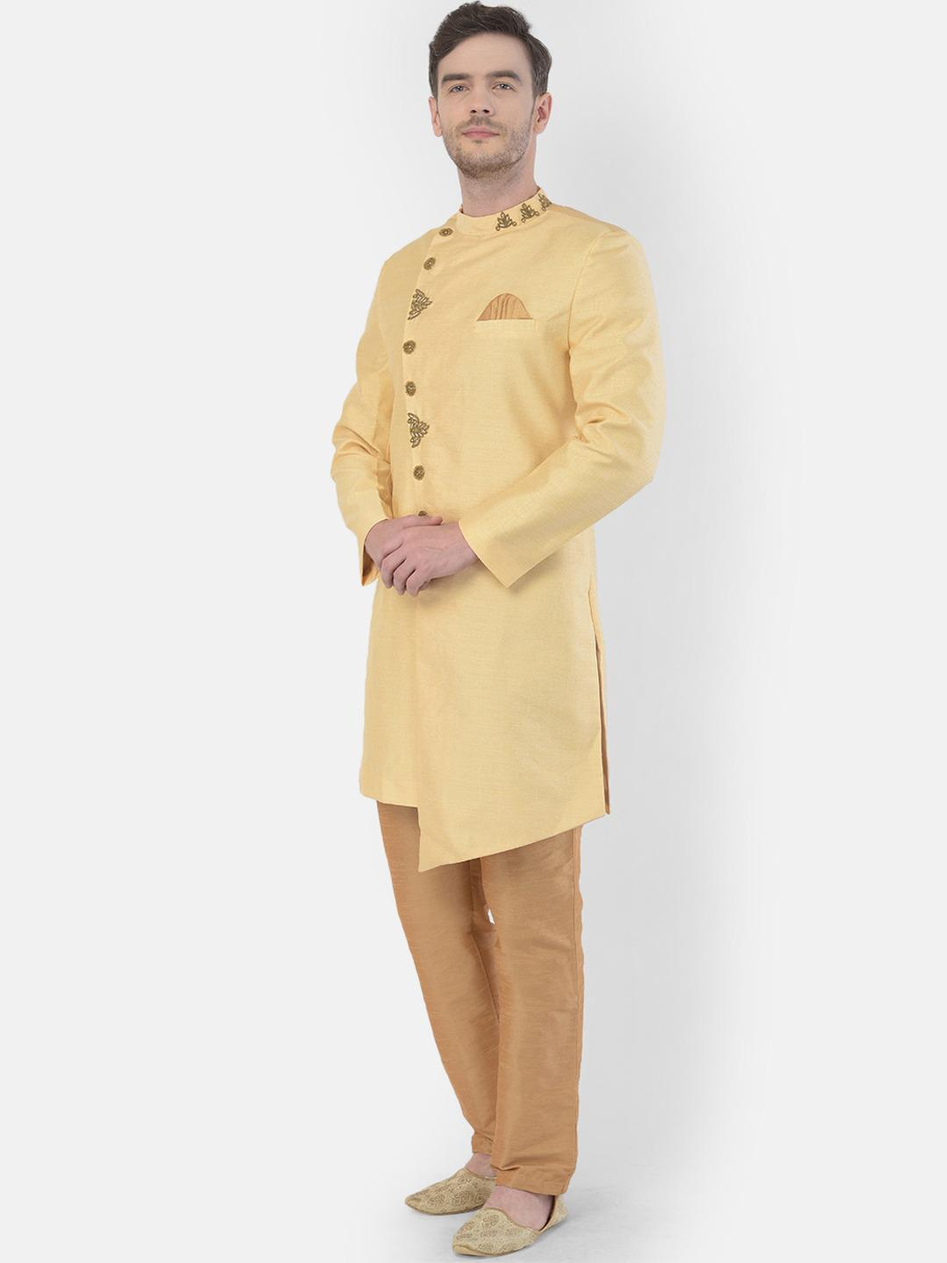Plain Sherwani: (329, 186, 667, 880)
